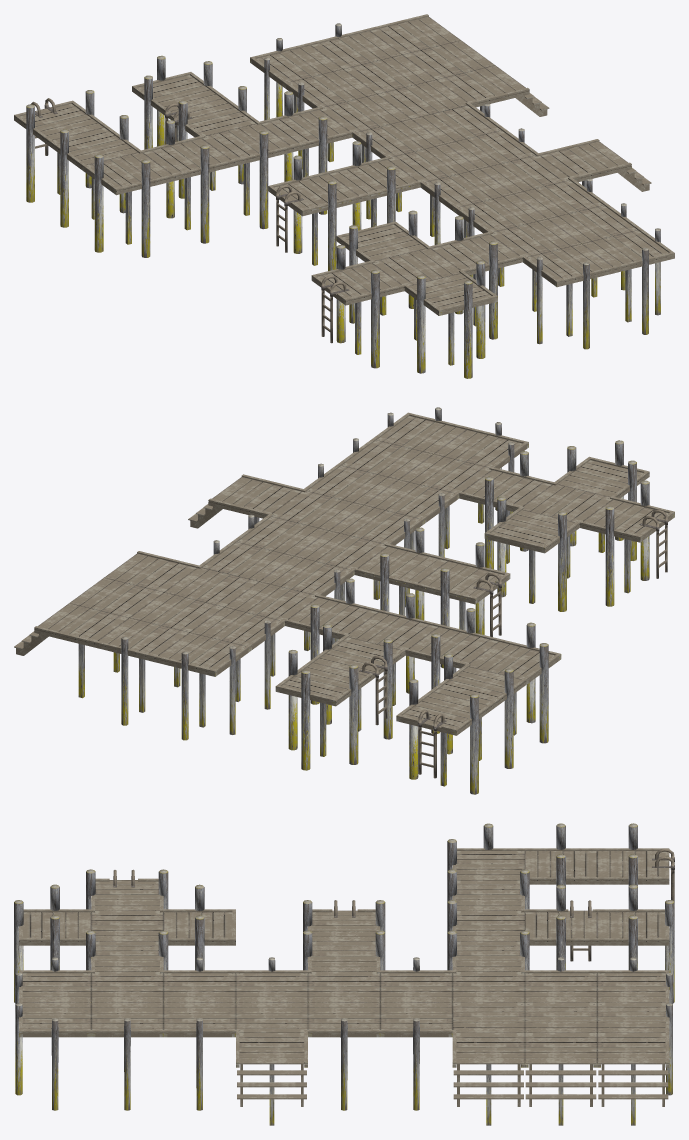
File: WoodenDock.obj
3 renders of one model, top to bottom at view 1: azimuth 30°, elevation 25°; view 2: azimuth 150°, elevation 25°; view 3: azimuth 270°, elevation 25°, orthographic. The views are drawn at different scales.
Parts seen in each view (by area): view 1: copy.009, copy.007, dock.020, dock.024, copy.001, dock.007, dock.009, copy.003, copy.000, copy.002, dock.012, dock.026 (+25 smaller); view 2: copy.000, copy.003, copy.007, copy.008, dock.020, dock.004, dock.024, dock.025, copy.002, dock.017, copy.009, dock.003 (+25 smaller); view 3: dock.008, dock.001, dock.002, dock.022, dock.009, copy.000, copy.009, dock.025, copy.003, copy.015, dock.019, copy.014 (+25 smaller).
Part boxes in pixels (x1=…): copy.009: x1=404, y1=260, x2=497, y2=378; copy.007: x1=311, y1=245, x2=404, y2=368; dock.020: x1=268, y1=155, x2=361, y2=270; dock.024: x1=82, y1=150, x2=175, y2=257; copy.001: x1=141, y1=120, x2=234, y2=243; dock.007: x1=523, y1=244, x2=615, y2=349; dock.009: x1=582, y1=228, x2=674, y2=334; copy.003: x1=14, y1=90, x2=106, y2=202; copy.000: x1=132, y1=55, x2=224, y2=149; copy.002: x1=48, y1=115, x2=140, y2=227; dock.012: x1=260, y1=91, x2=352, y2=214; dock.026: x1=200, y1=121, x2=293, y2=229; copy.000: x1=275, y1=650, x2=370, y2=770; copy.003: x1=396, y1=679, x2=491, y2=794; copy.007: x1=580, y1=480, x2=674, y2=606; copy.008: x1=484, y1=496, x2=579, y2=611; dock.020: x1=415, y1=542, x2=510, y2=668; dock.004: x1=155, y1=632, x2=250, y2=740; dock.024: x1=466, y1=622, x2=561, y2=743; dock.025: x1=311, y1=624, x2=405, y2=739; copy.002: x1=431, y1=653, x2=526, y2=768; dock.017: x1=354, y1=527, x2=449, y2=620; copy.009: x1=554, y1=440, x2=649, y2=560; dock.003: x1=94, y1=618, x2=189, y2=725; dock.008: x1=452, y1=1031, x2=524, y2=1125; dock.001: x1=525, y1=1033, x2=597, y2=1125; dock.002: x1=597, y1=1031, x2=669, y2=1125; dock.022: x1=236, y1=1031, x2=307, y2=1125; dock.009: x1=15, y1=1001, x2=91, y2=1110; copy.000: x1=597, y1=884, x2=674, y2=1003; copy.009: x1=14, y1=884, x2=91, y2=1002; dock.025: x1=525, y1=884, x2=597, y2=970; copy.003: x1=597, y1=823, x2=674, y2=901; copy.015: x1=91, y1=1002, x2=163, y2=1110; dock.019: x1=380, y1=1002, x2=452, y2=1110; copy.014: x1=163, y1=1002, x2=235, y2=1110.
Size of the model in its own units: 111 by 23.02 by 137.
2 materials, 2 textured.
